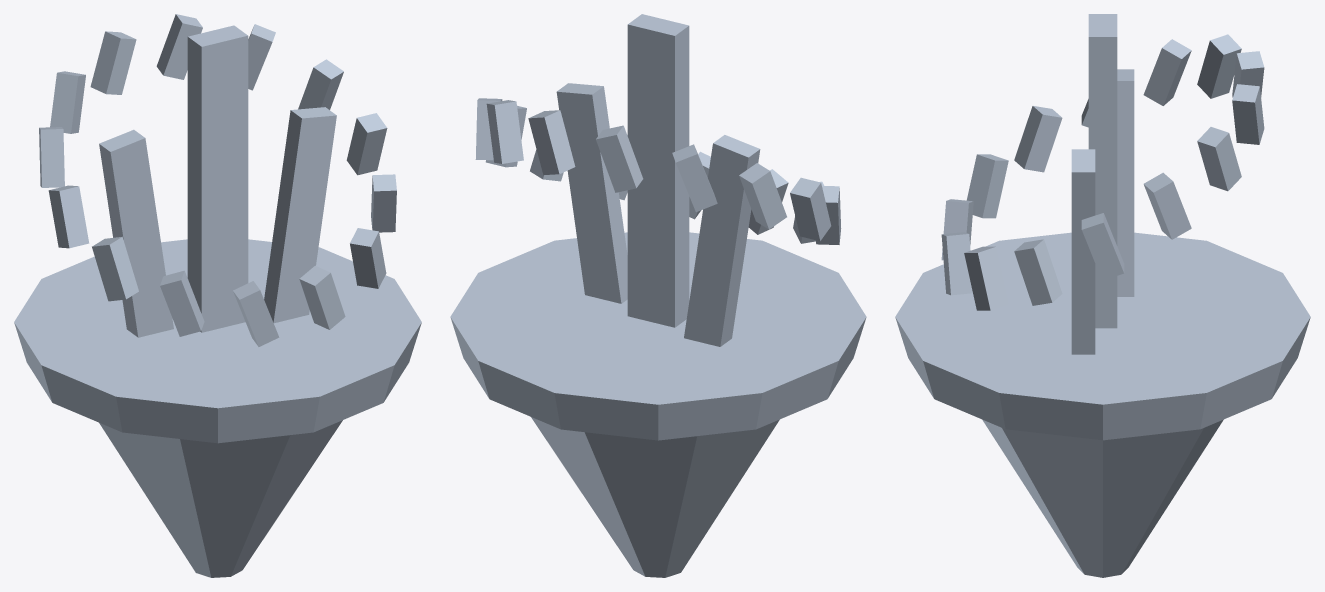
Rendered from sil_w6.glb.
The picture shows the model from 3 angles, left to right: view 1: azimuth 30°, elevation 25°; view 2: azimuth 150°, elevation 25°; view 3: azimuth 270°, elevation 25°; orthographic projection. The views are drawn at different scales.
Visible parts, largest first — view 1: SilW6; view 2: SilW6; view 3: SilW6.
Boxes of the visible parts, x1,y1,x2,y2 form: SilW6: [14, 14, 421, 577]; SilW6: [450, 14, 866, 577]; SilW6: [895, 14, 1310, 577].
Bounding box in the file's own units: 32 × 46 × 32.
